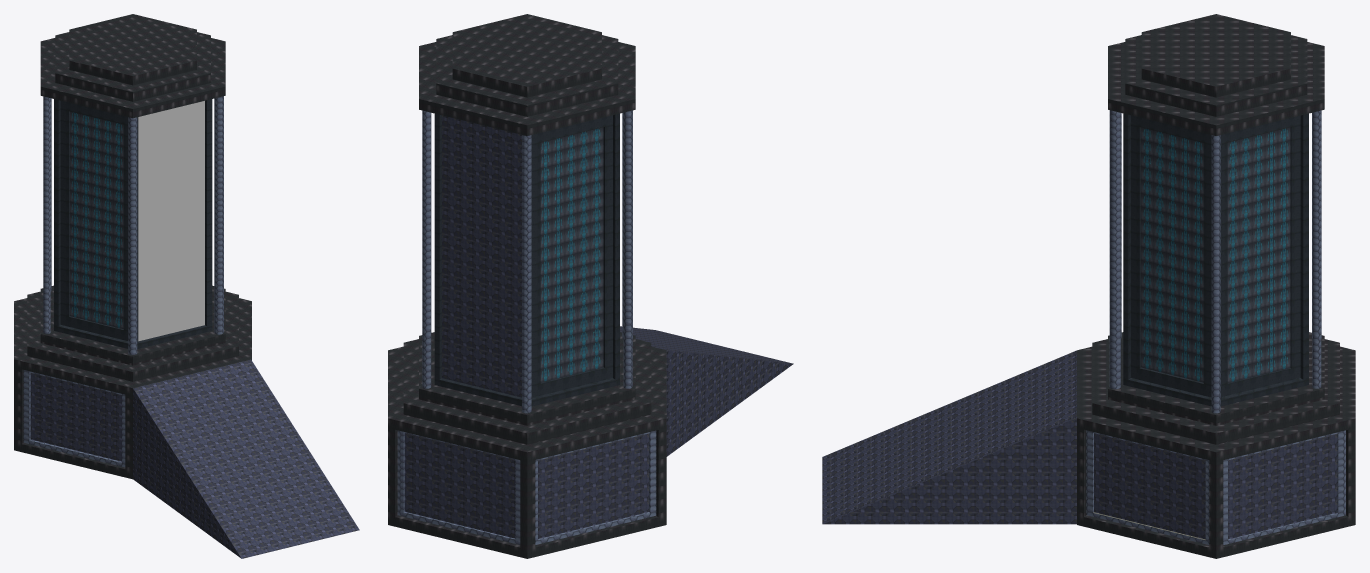
The picture shows the model from 3 angles, left to right: view 1: azimuth 30°, elevation 25°; view 2: azimuth 150°, elevation 25°; view 3: azimuth 270°, elevation 25°; orthographic projection. The views are drawn at different scales.
Visible parts, largest first — view 1: STAR_CHAMBER (×17); view 2: STAR_CHAMBER (×23); view 3: STAR_CHAMBER (×20).
Part boxes in pixels (x1,y1,x2,y2): STAR_CHAMBER (×17): [14, 14, 359, 558]; STAR_CHAMBER (×23): [388, 14, 793, 558]; STAR_CHAMBER (×20): [822, 14, 1355, 558].
Bounding box in the file's own units: 262 × 433 × 395.
